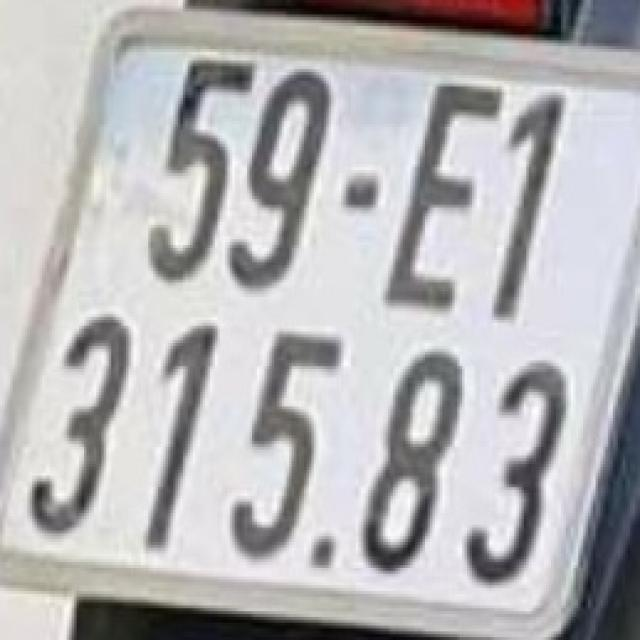3: (25, 309, 133, 536), (464, 355, 568, 588)
5: (232, 326, 341, 559), (143, 49, 247, 283)
7: (492, 84, 568, 320), (143, 320, 220, 551)
8: (361, 343, 462, 574)
9: (230, 66, 331, 288)
E: (388, 72, 499, 314)
